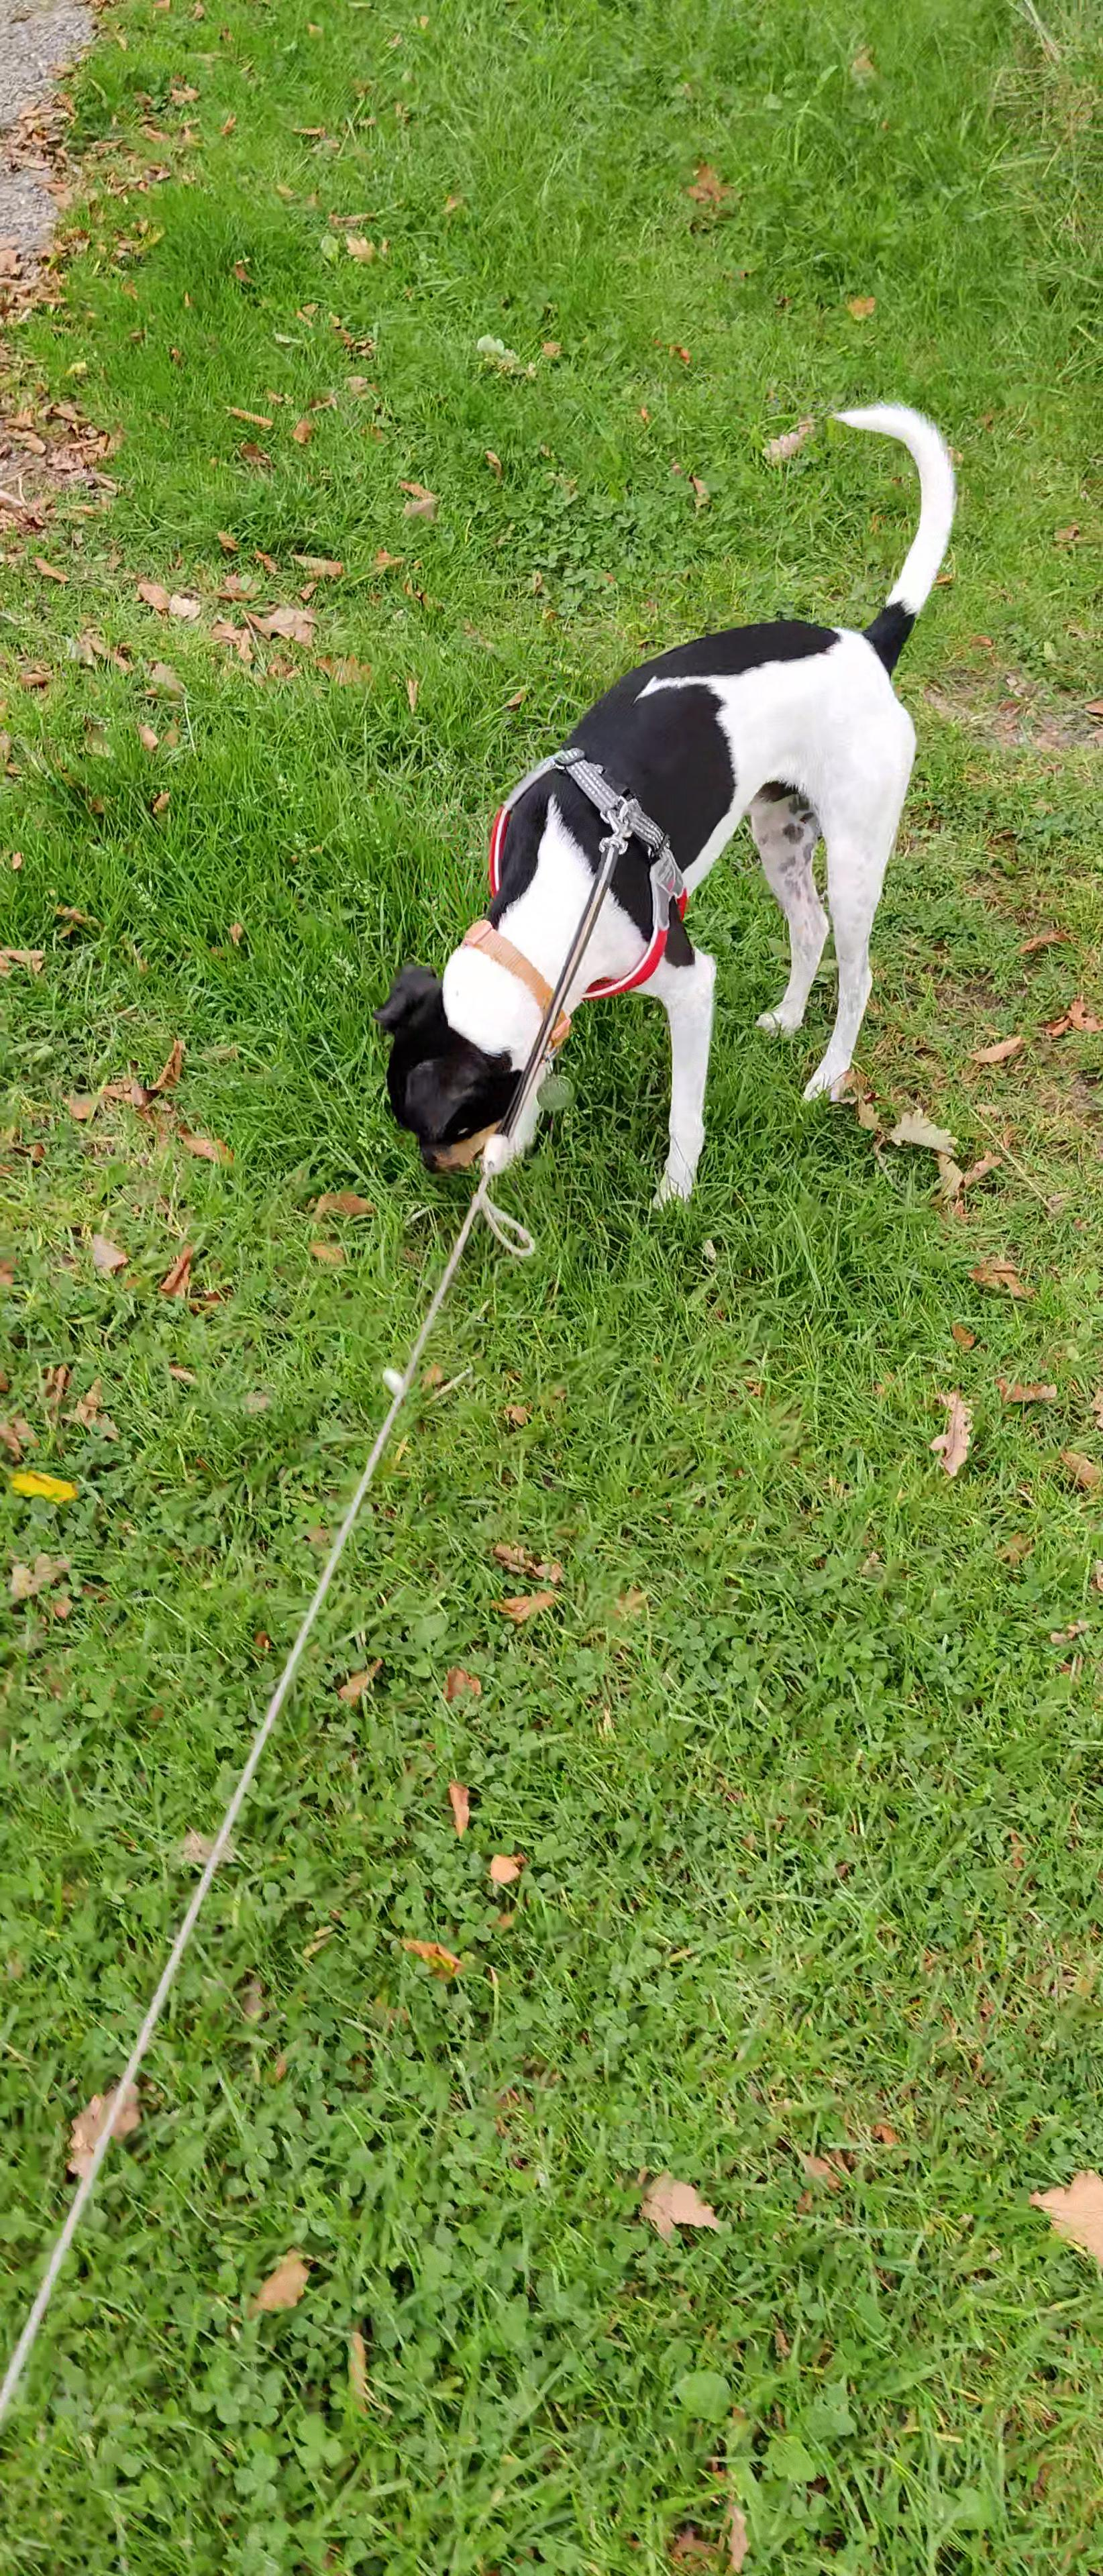Dog: (370, 394, 957, 1219)
